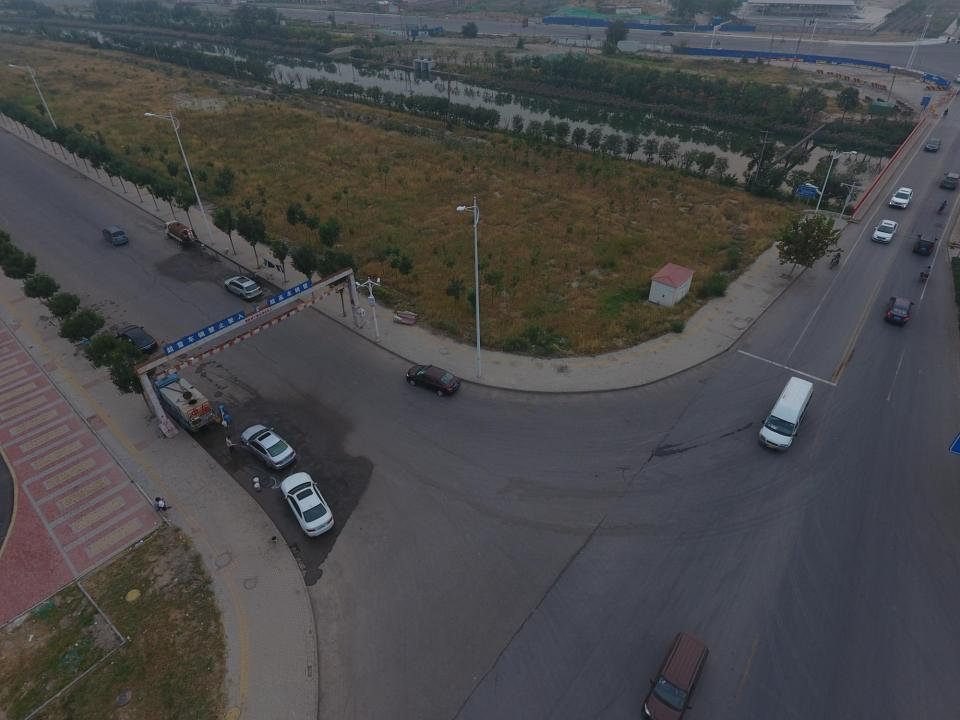car: (280, 472, 334, 537), (241, 425, 296, 467), (406, 363, 460, 396), (116, 326, 158, 354), (225, 275, 262, 303), (885, 297, 913, 326), (872, 220, 898, 244), (912, 232, 938, 256), (101, 226, 128, 246), (886, 188, 913, 208), (941, 171, 959, 191), (925, 138, 941, 152), (660, 30, 674, 36), (954, 74, 960, 82)
truck: (152, 374, 217, 436), (164, 218, 196, 246)
van: (642, 632, 708, 720), (759, 375, 811, 450)
